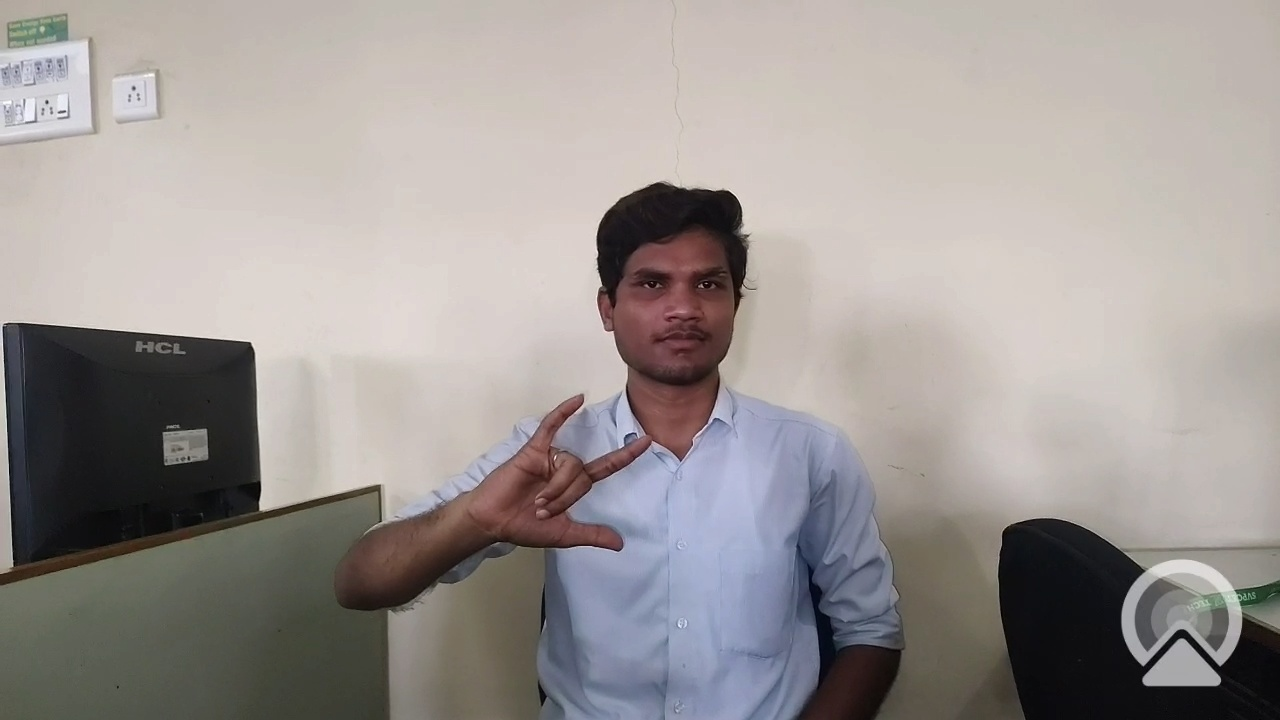I love you: (457, 387, 665, 564)
